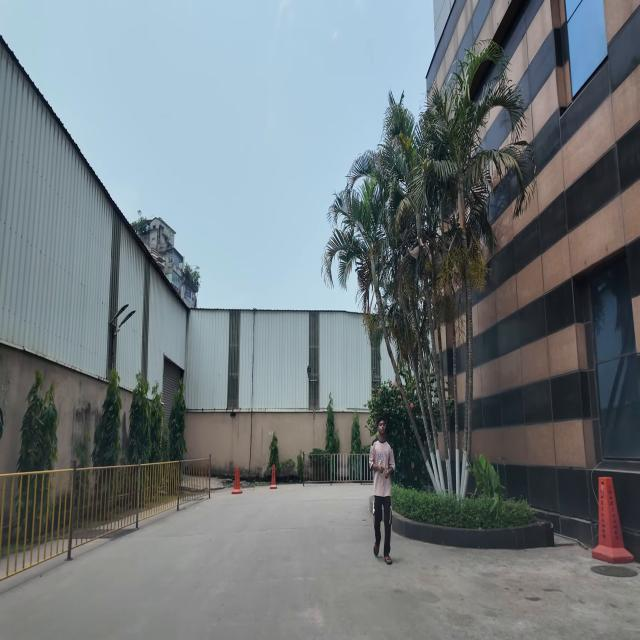person: (369, 417, 395, 565)
